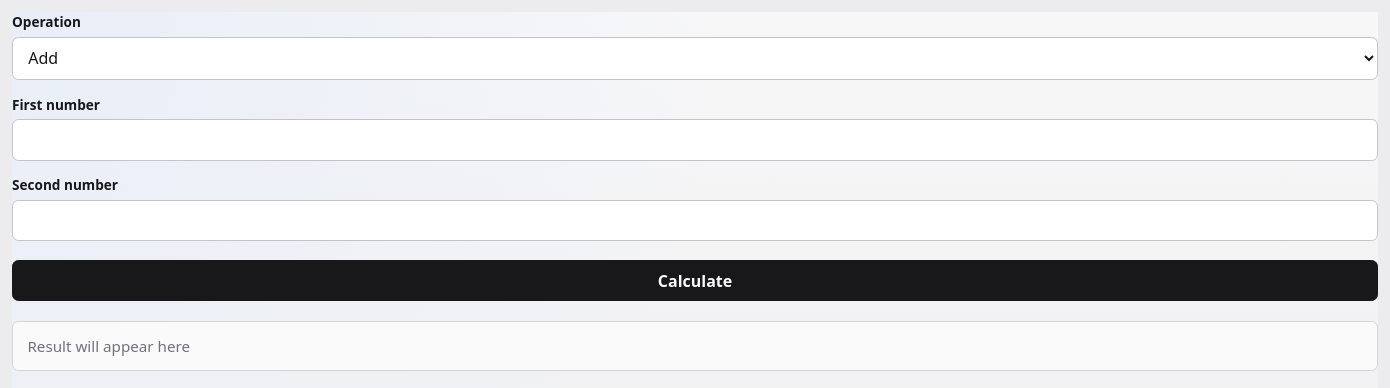
Test case: Calculator › posts sqrt with only { a }
This screenshot has width=1390, height=388.
Step 1. Type "9" into the field labelled "First number" → (695, 140), box [12,119,1378,161]
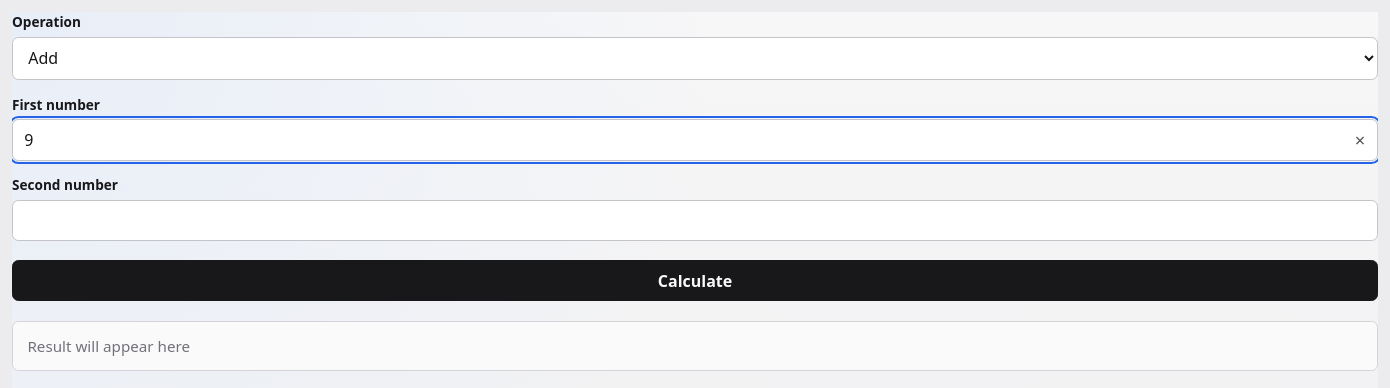
Step 2. Type "99" into the field labelled "Second number" → (695, 221), box [12,200,1378,241]
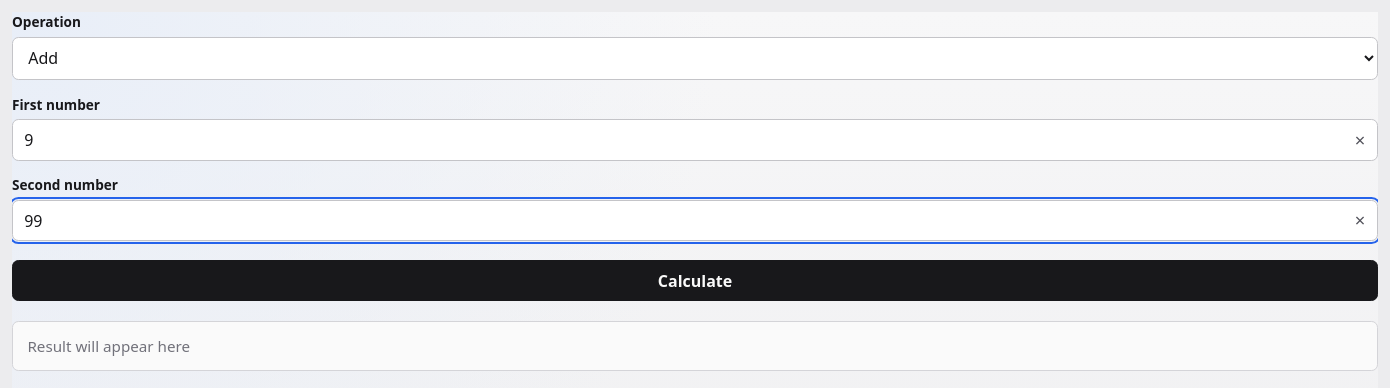
Step 3. Select "Square root" in the dropdown labelled "Operation" → (695, 58), box [12,37,1378,80]
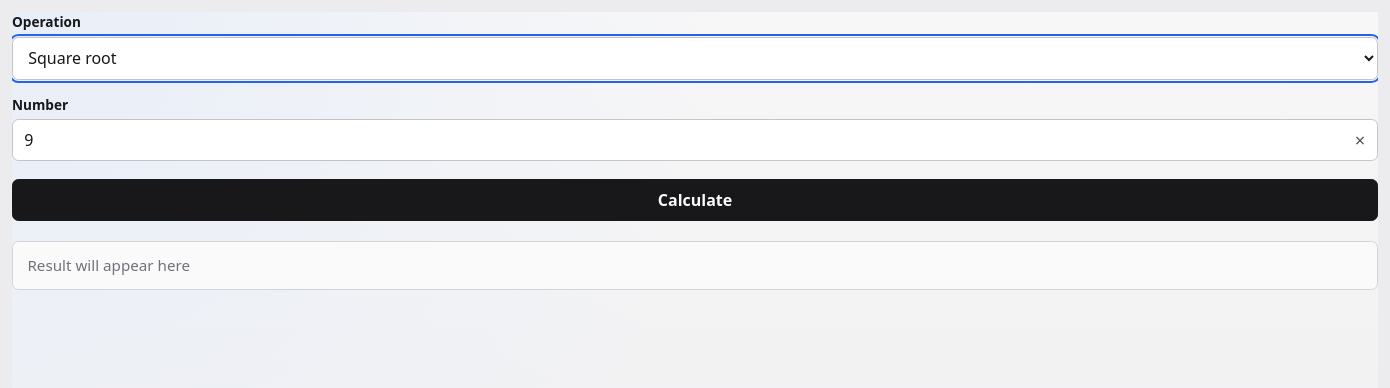
Step 4. Click the button "Calculate" → (695, 200), box [12,179,1378,221]
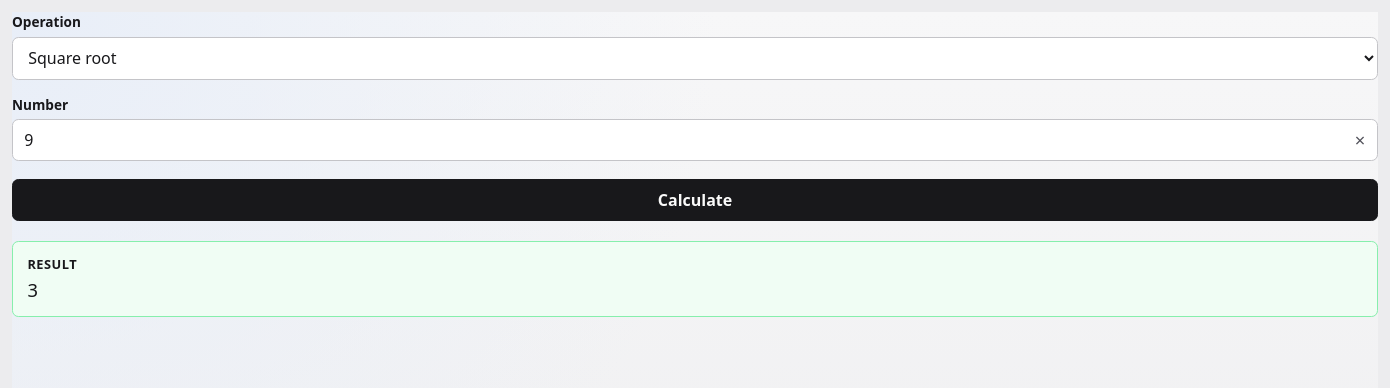
Expected: the text "3" is shown, [27,277,38,302]
